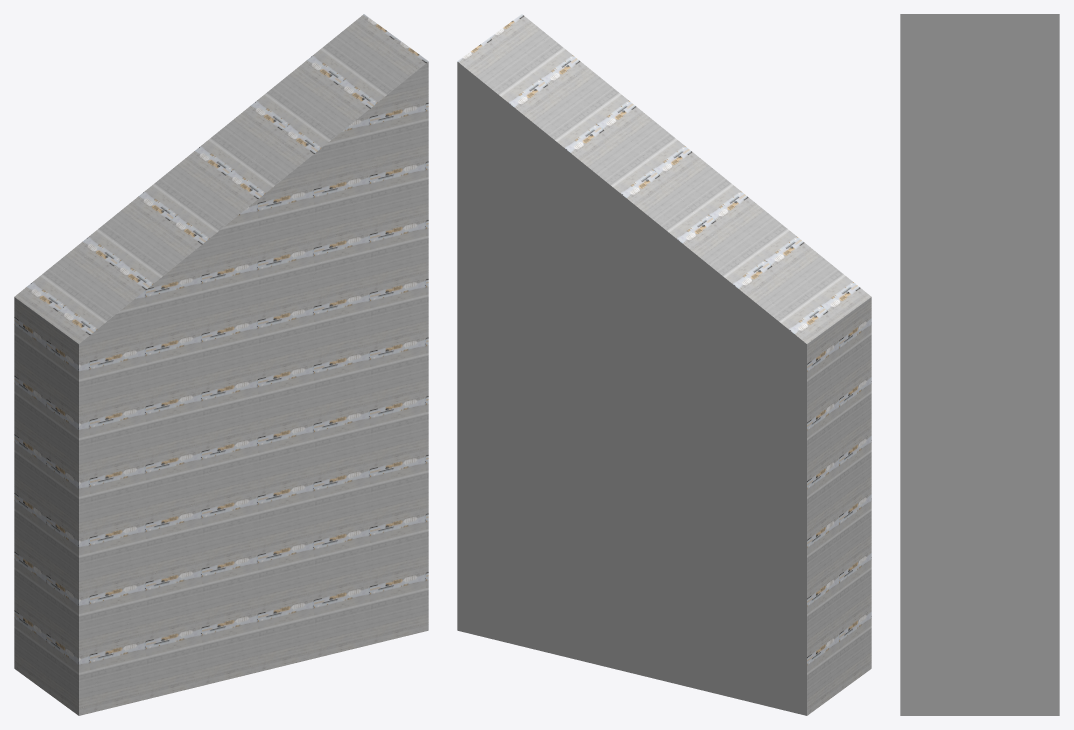
Rendered from Brush_1_AsStaticMesh.fbx.
The picture shows the model from 3 angles, left to right: view 1: azimuth 30°, elevation 25°; view 2: azimuth 150°, elevation 25°; view 3: azimuth 270°, elevation 25°; orthographic projection. The views are drawn at different scales.
Visible parts, largest first — view 1: Brush_1_AsStaticMesh_LOD0; view 2: Brush_1_AsStaticMesh_LOD0; view 3: Brush_1_AsStaticMesh_LOD0.
Part boxes in pixels (<box>): Brush_1_AsStaticMesh_LOD0: <box>14,14,428,715</box>; Brush_1_AsStaticMesh_LOD0: <box>457,14,871,715</box>; Brush_1_AsStaticMesh_LOD0: <box>900,14,1059,715</box>.
Bounding box in the file's own units: 624 × 200 × 971.
